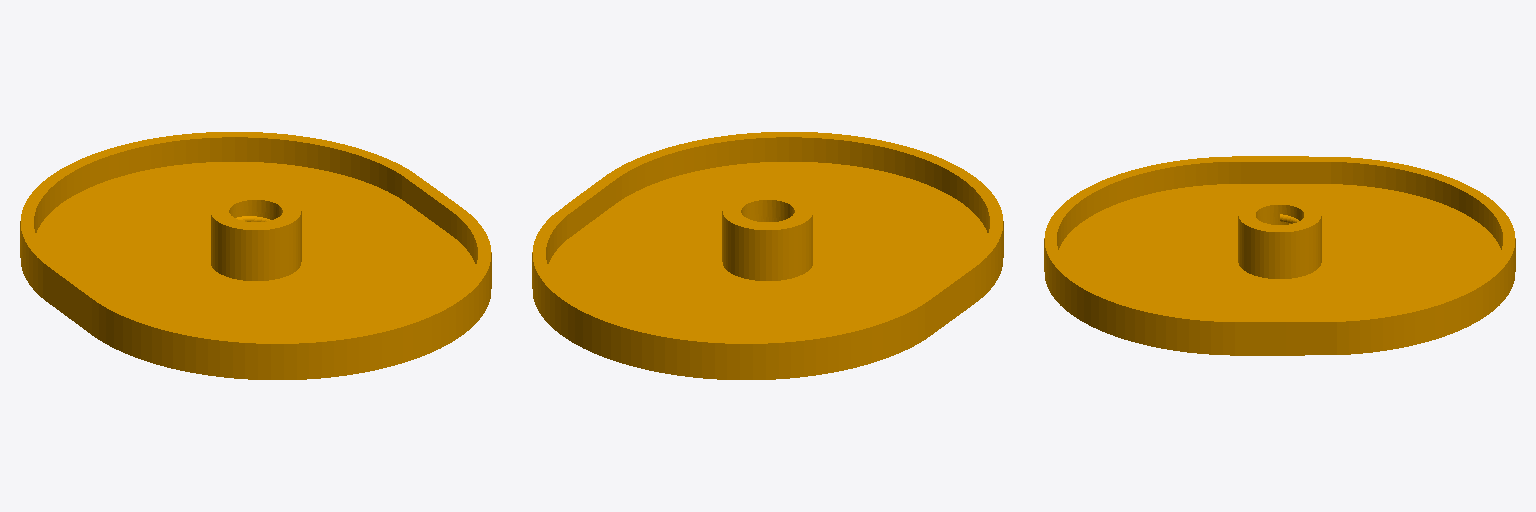
The robot description file, URDF, robot "oval_table_top":
<?xml version="1.0"?>
<robot name="oval_table_top">
    <link name="oval_table_top">
        <visual>
            <geometry>
                <mesh filename="../mesh/oval_table/round_table_top.obj" scale="1 1 1"/>
            </geometry>
        </visual>
        <collision>
            <geometry>
                <mesh filename="../mesh/oval_table/round_table_top.obj" scale="1 1 1"/>
            </geometry>
            <sdf resolution="512"/>
        </collision>
        <!-- <inertial>
            <mass value="1."/>
            <inertia ixx="0.0001" ixy="0.0" ixz="0.0" iyy="0.0001" iyz="0.0" izz="0.0001"/>
        </inertial> -->
    </link>
</robot>

--- What the picture shows (computed from the rendered views, not written in the file) ---
The picture shows the robot from 3 angles, left to right: view 1: azimuth 30°, elevation 25°; view 2: azimuth 150°, elevation 25°; view 3: azimuth 270°, elevation 25°; orthographic projection.
Robot: oval_table_top — 1 links, 0 joints (none); root link oval_table_top; default pose: every joint at zero.
Visible links, largest first — view 1: oval_table_top; view 2: oval_table_top; view 3: oval_table_top.
Boxes of the visible links, x1,y1,x2,y2 form: oval_table_top: (20, 132, 491, 379); oval_table_top: (532, 132, 1003, 379); oval_table_top: (1044, 156, 1515, 355).
Bounding box of the posed robot: 0.2 × 0.24 × 0.0325 m (x, y, z).
1 mesh visuals loaded from 1 distinct referenced files (1 OBJ).